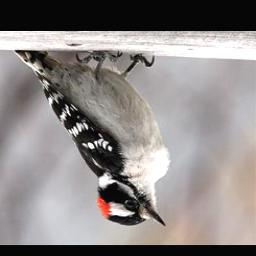Woodpecker: (16, 48, 172, 227)
